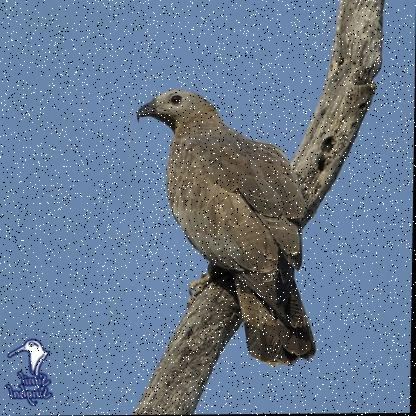Burung: (131, 88, 343, 364)
